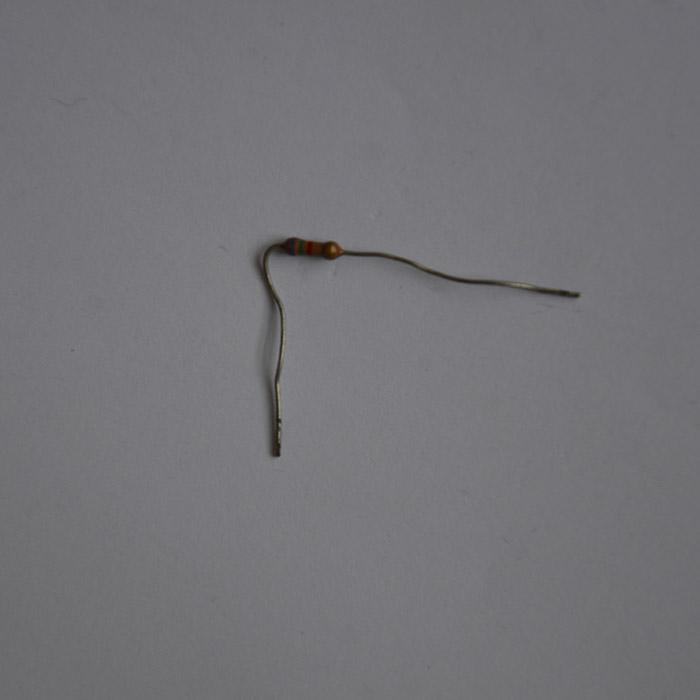resistor: (283, 236, 341, 258)
